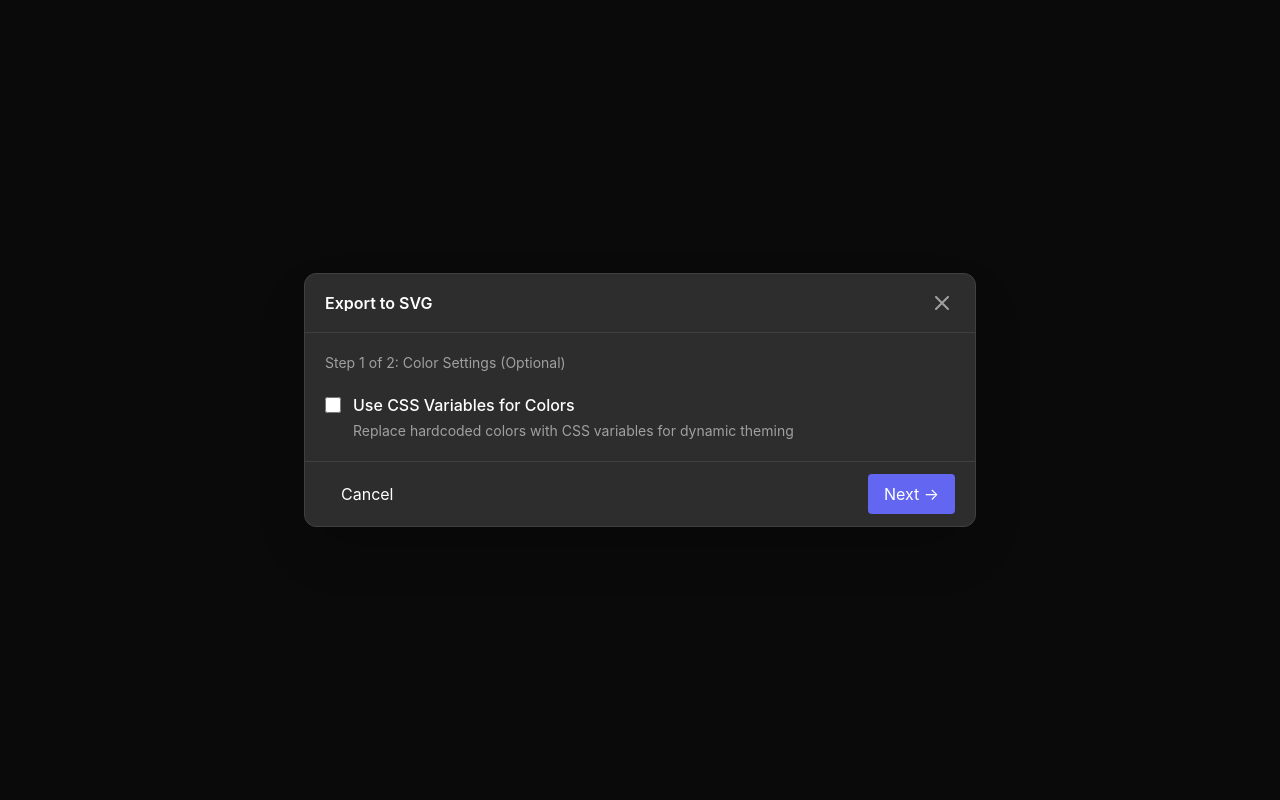
Test case: ExportSVGModal › step navigation › clicking "Next →" advances to Step 2
The image size is (1280, 800).
Click the button "Next →": {"x": 911, "y": 494} 868,474 -> 955,514
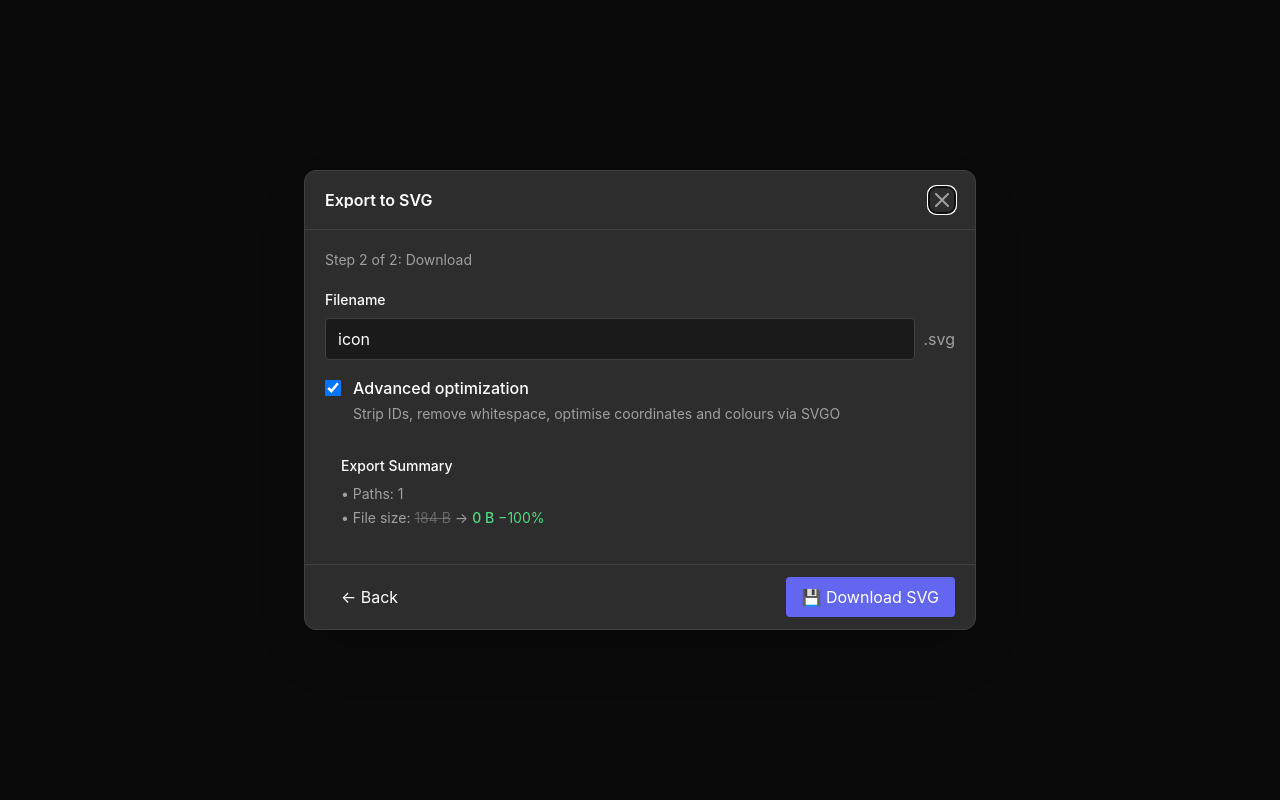
Expected: the button "💾 Download SVG" is shown, 786,577 -> 955,617
